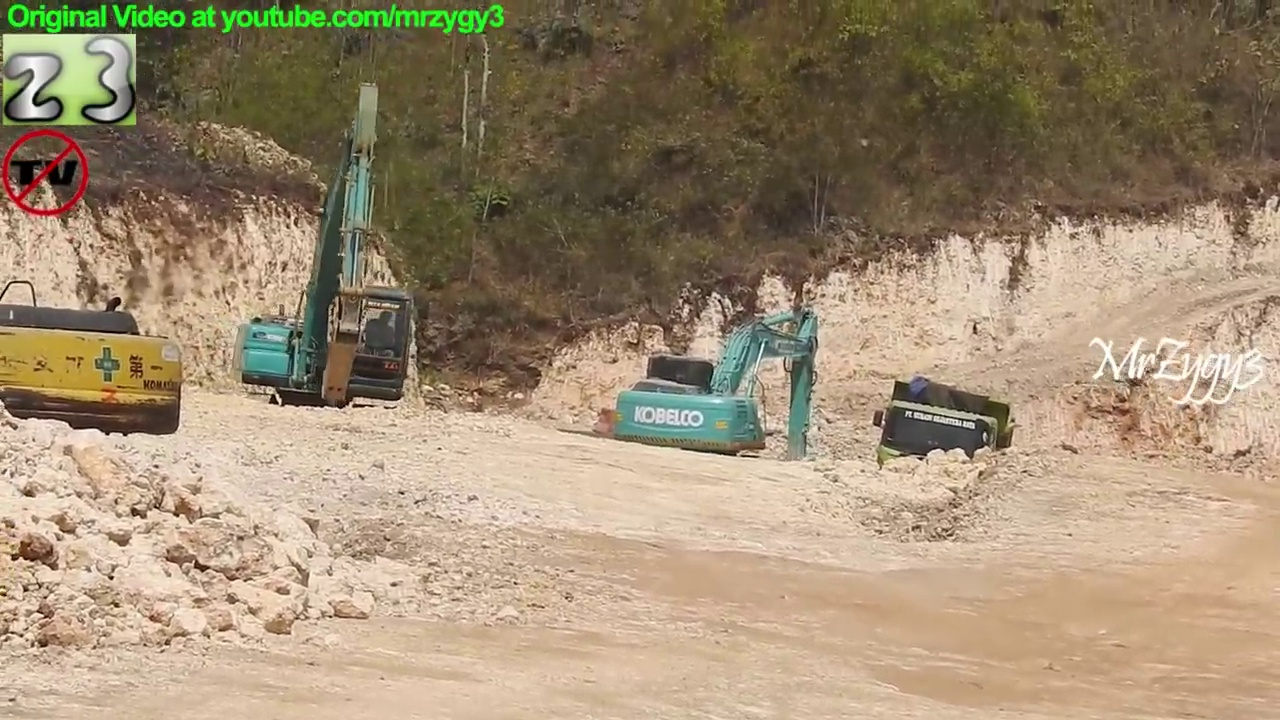excavator: (230, 75, 424, 434), (605, 303, 827, 502), (1, 268, 191, 443)
truck: (869, 372, 1024, 512)
